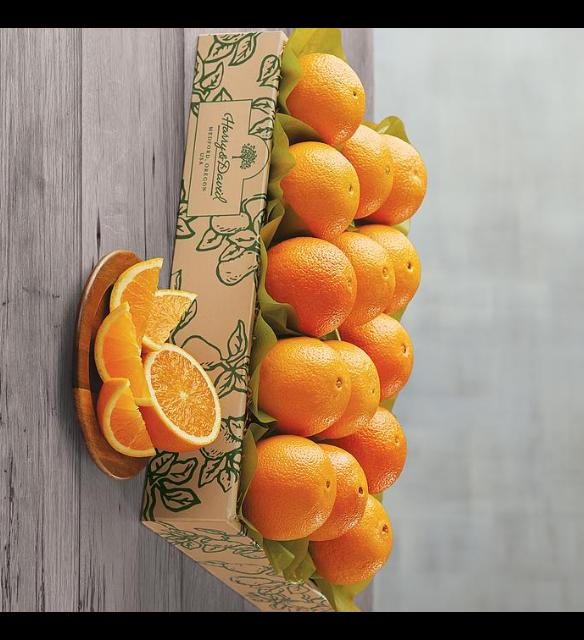Oranges: (244, 436, 336, 540), (266, 237, 358, 337), (260, 340, 352, 432), (287, 53, 365, 143), (281, 144, 359, 233), (320, 496, 392, 582), (342, 410, 407, 492), (359, 314, 413, 398), (380, 135, 426, 225), (349, 126, 391, 218), (350, 235, 392, 322), (380, 230, 420, 308)
